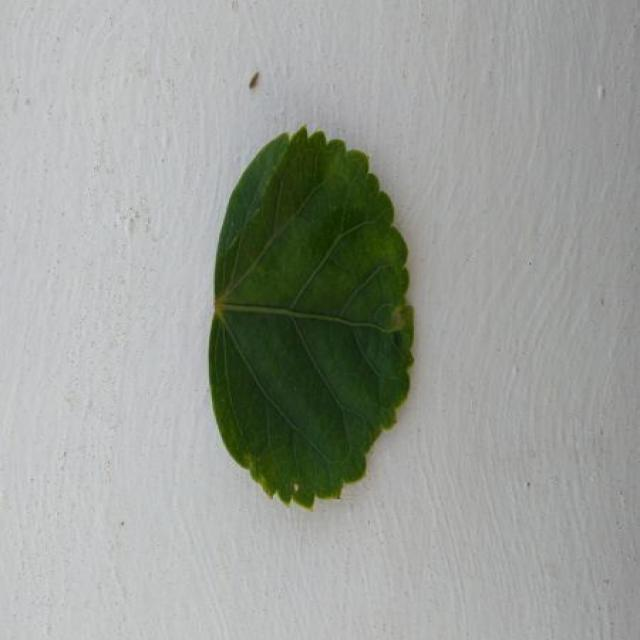Hibiscus: (208, 128, 413, 507)
